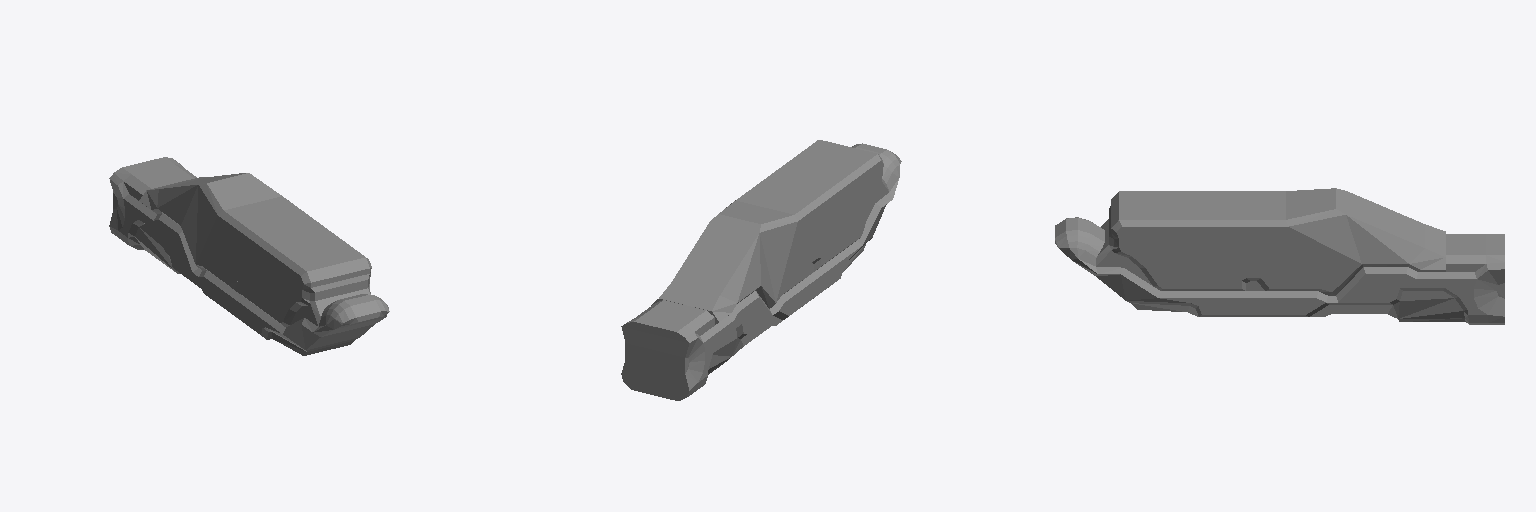
The model's file is body4.obj.
The picture shows the model from 3 angles: view 1: azimuth 30°, elevation 25°; view 2: azimuth 150°, elevation 25°; view 3: azimuth 270°, elevation 25°; orthographic projection.
Visible parts, largest first — view 1: body4; view 2: body4; view 3: body4.
Part boxes in pixels (bbox=[...]): body4: bbox=[109, 157, 389, 355]; body4: bbox=[621, 140, 901, 400]; body4: bbox=[1055, 188, 1504, 324].
Size of the model in its own units: 4.29 by 6.89 by 24.5.